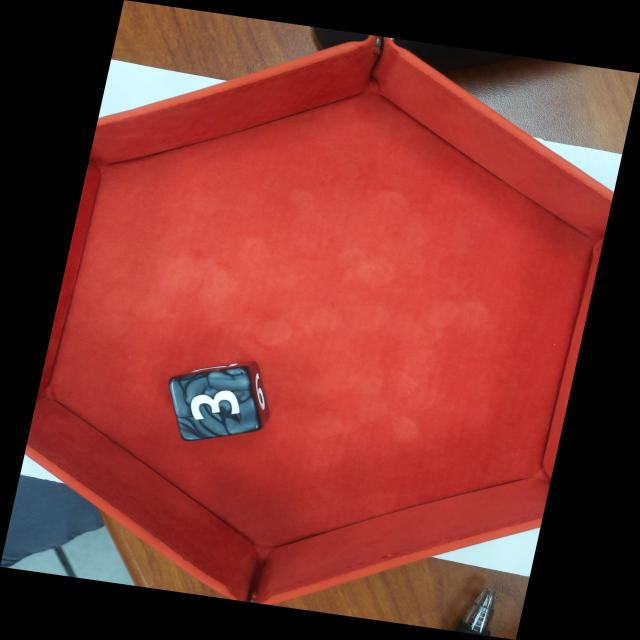dice: (165, 363, 265, 443)
